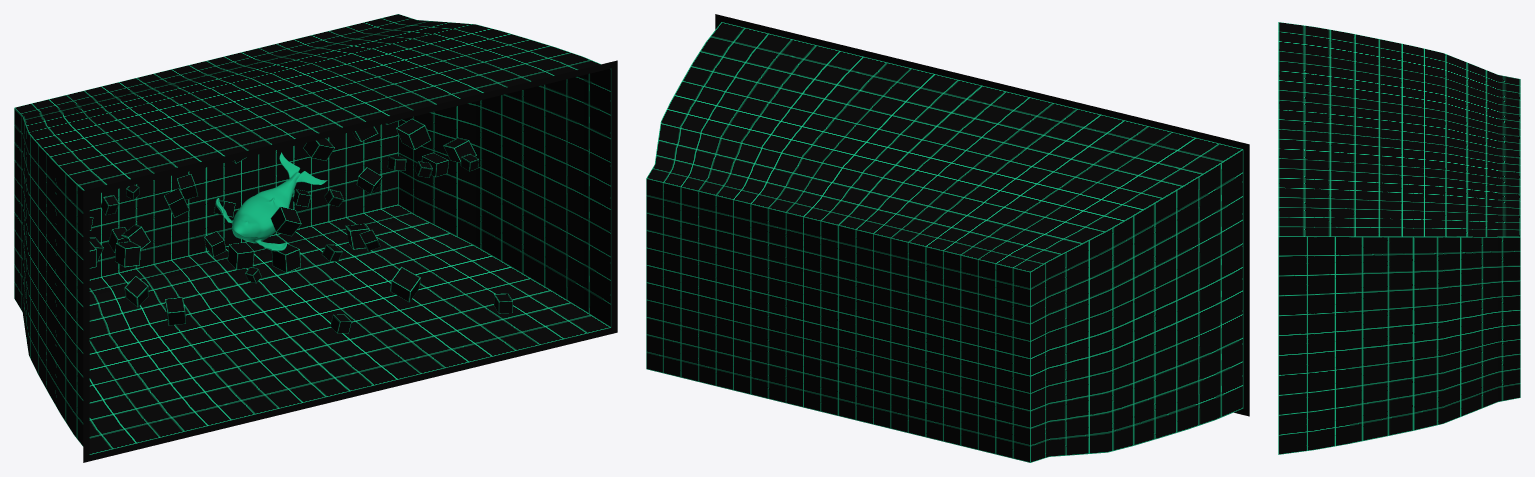
3 views of the same model, side by side, from view 1: azimuth 30°, elevation 25°; view 2: azimuth 150°, elevation 25°; view 3: azimuth 270°, elevation 25° (orthographic). The views are drawn at different scales.
Parts seen in each view (by area): view 1: 立方体.001; view 2: 立方体.001; view 3: 立方体.001.
Boxes of the visible parts, x1,y1,x2,y2 form: 立方体.001: [14, 14, 617, 462]; 立方体.001: [646, 14, 1249, 462]; 立方体.001: [1278, 22, 1520, 454].
Bounding box in the file's own units: 3.28 × 1.6 × 1.53.
2 materials, 1 textured.
